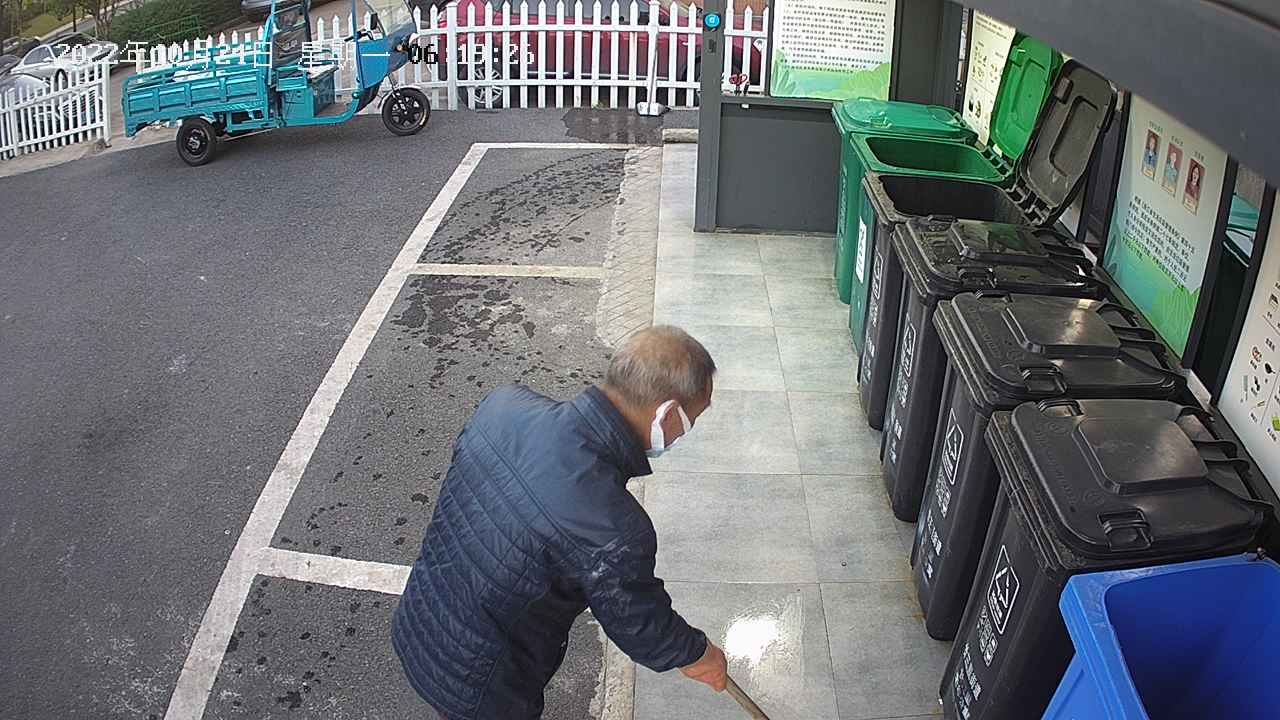person: (382, 318, 739, 720)
